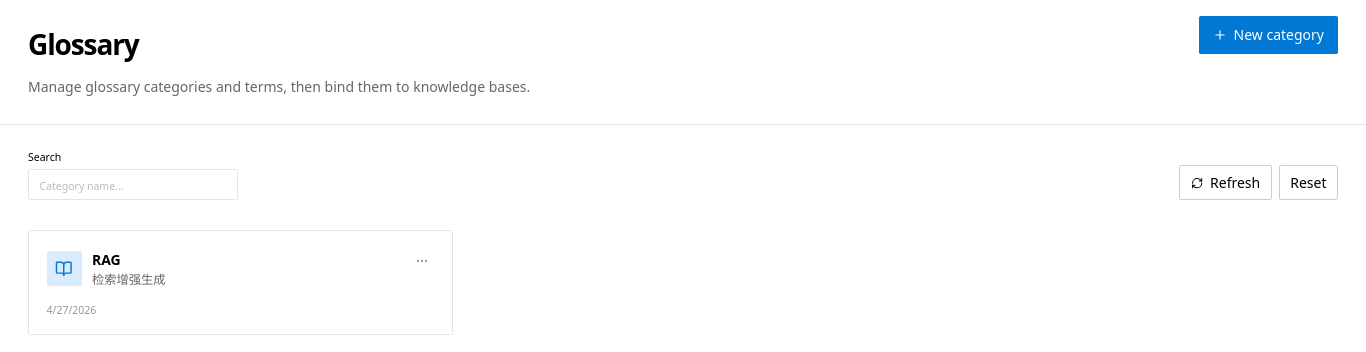
Test: GlossaryListPage › resets the search keyword from the toolbar reset action
The image size is (1366, 352).
Type "agent" into the field labelled "Search".
click(133, 185); type("agent")  # box [28,169,238,200]
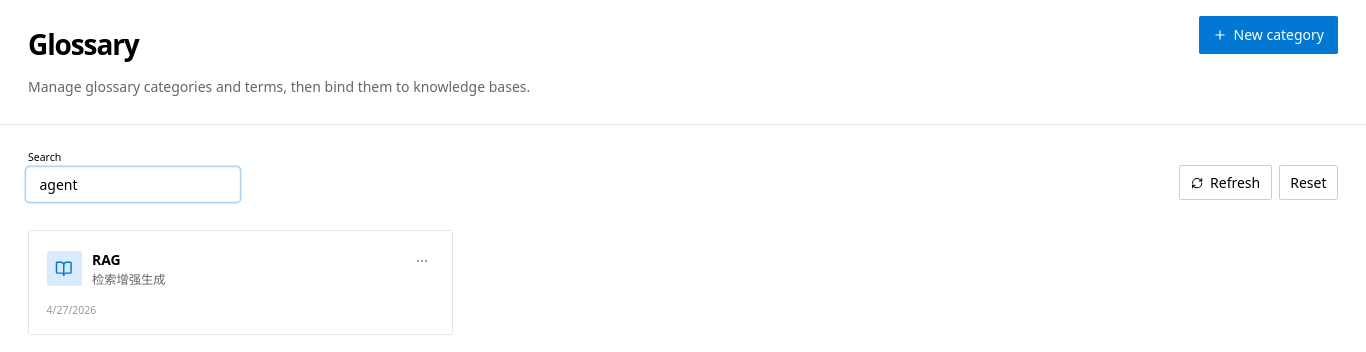
Click the button "Reset".
click(1308, 183)  # box [1279,165,1338,200]
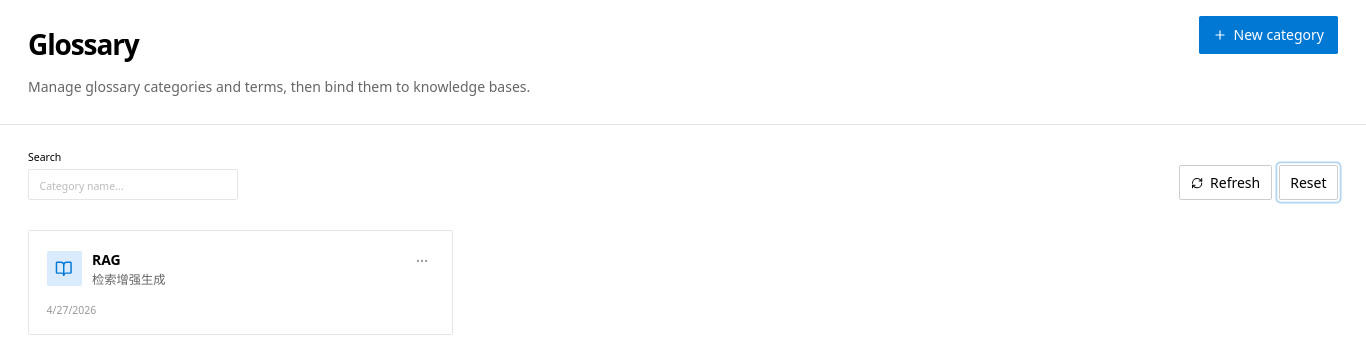
Expected: the field labelled "Search" is empty, [28,169,238,200]
